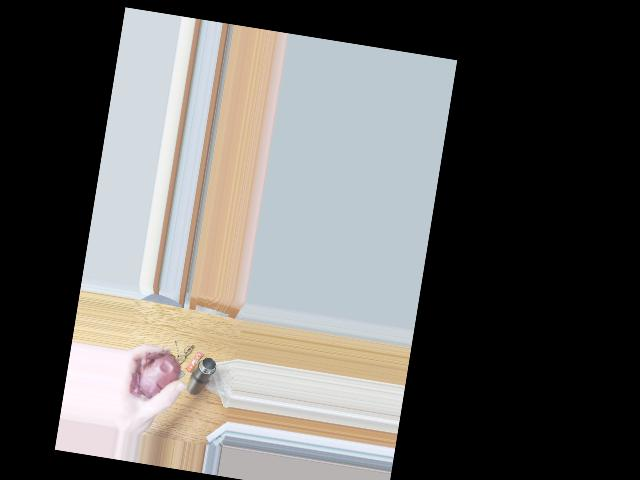onion: (132, 348, 181, 406)
